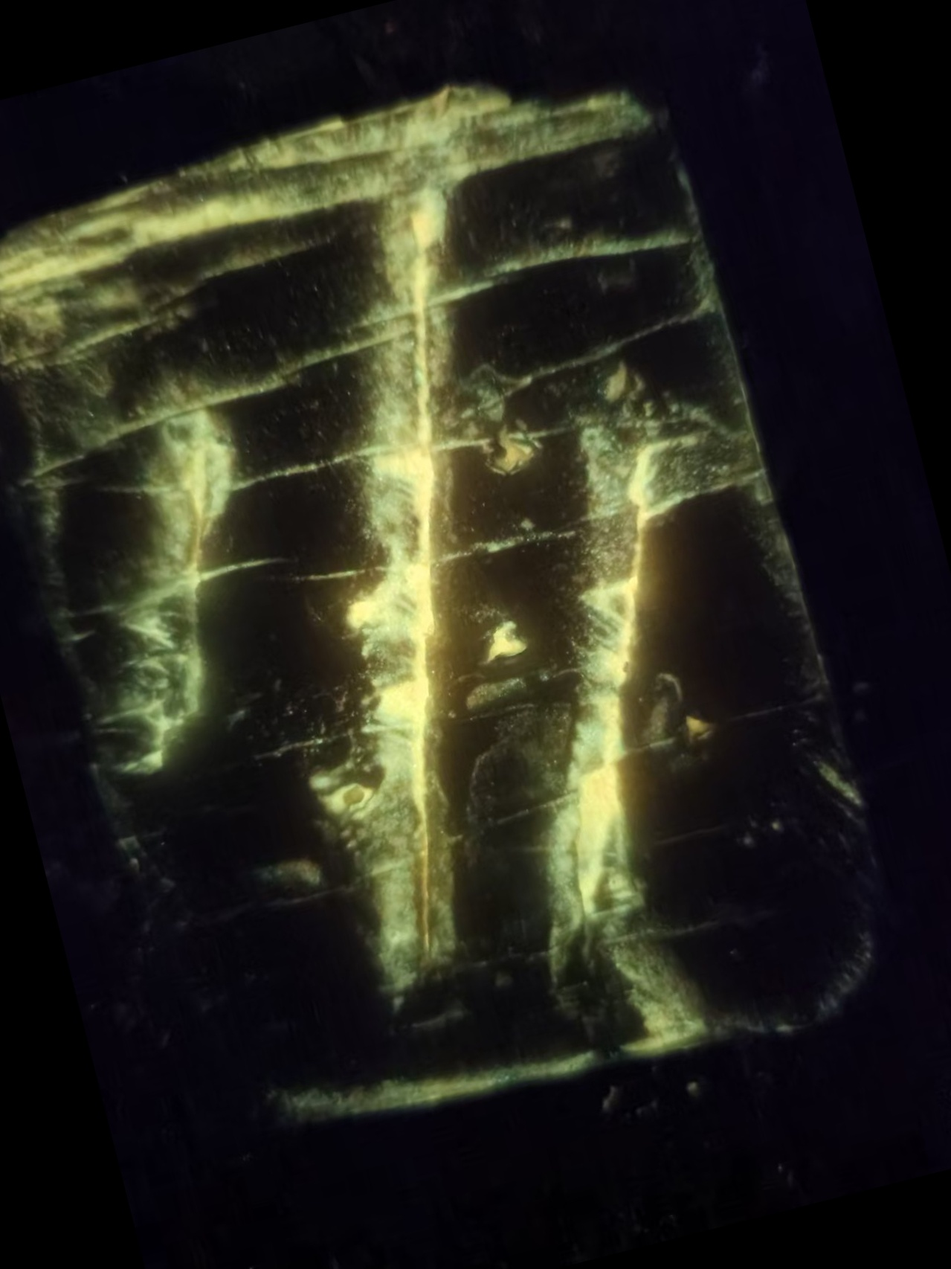Fissure: (180, 168, 658, 1020), (397, 382, 802, 977), (21, 365, 337, 794)
